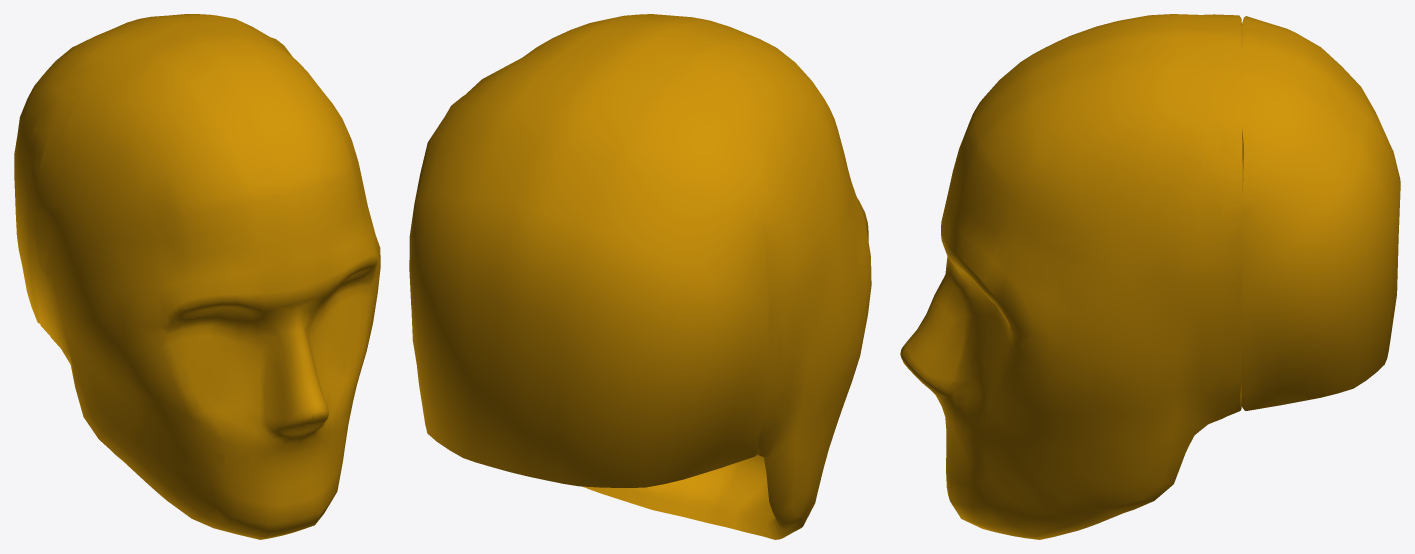
The picture shows the model from 3 angles, left to right: view 1: azimuth 30°, elevation 25°; view 2: azimuth 150°, elevation 25°; view 3: azimuth 270°, elevation 25°; orthographic projection. The views are drawn at different scales.
Parts seen in each view (by area): view 1: Head, Back; view 2: Back, Head; view 3: Head, Back.
Part boxes in pixels (x1=…): Head: x1=29, y1=17, x2=380, y2=539; Back: x1=14, y1=14, x2=262, y2=323; Back: x1=409, y1=68, x2=768, y2=487; Head: x1=466, y1=14, x2=871, y2=539; Head: x1=900, y1=14, x2=1242, y2=539; Back: x1=1241, y1=16, x2=1400, y2=410.
Bounding box in the file's own units: 0.1518 × 0.2265 × 0.2087.
